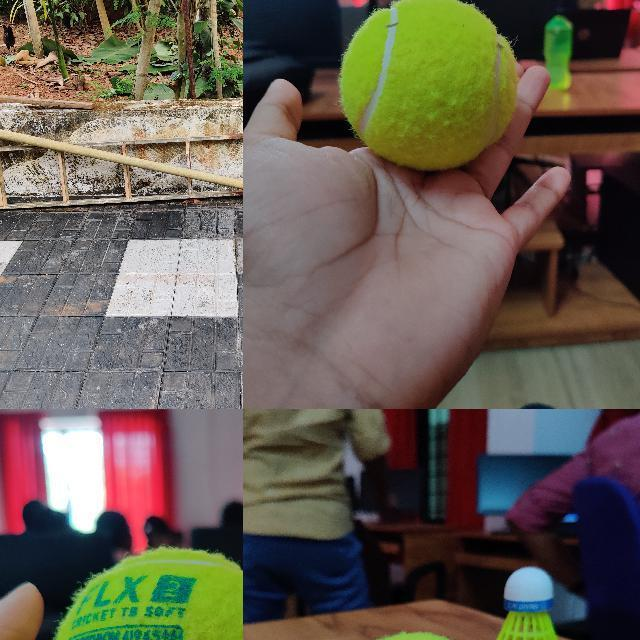tennis-ball: (339, 0, 518, 170), (49, 549, 242, 639)
